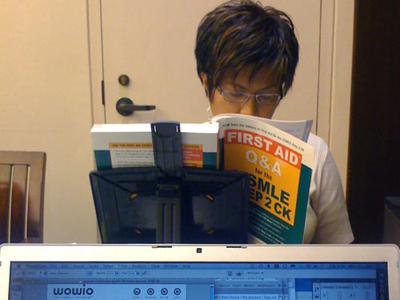person: (195, 1, 358, 248)
